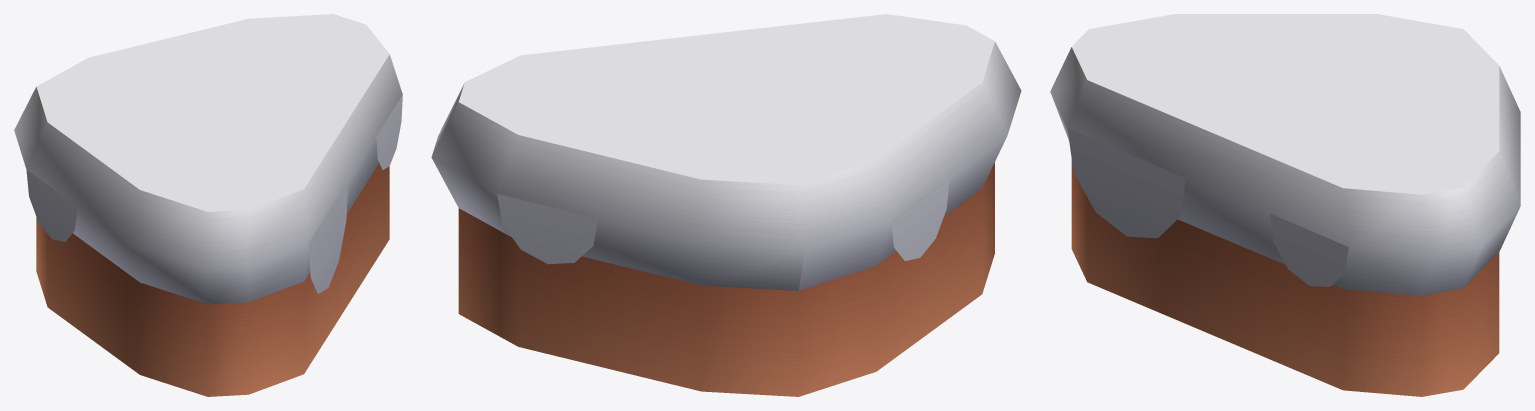
The model's file is block-snow-corner-overhang-low.glb.
The picture shows the model from 3 angles, left to right: view 1: azimuth 30°, elevation 25°; view 2: azimuth 150°, elevation 25°; view 3: azimuth 270°, elevation 25°; orthographic projection. The views are drawn at different scales.
Parts seen in each view (by area): view 1: block-snow-corner-overhang-low; view 2: block-snow-corner-overhang-low; view 3: block-snow-corner-overhang-low.
Part boxes in pixels (bbox=[...]): block-snow-corner-overhang-low: bbox=[14, 14, 402, 396]; block-snow-corner-overhang-low: bbox=[431, 14, 1021, 396]; block-snow-corner-overhang-low: bbox=[1050, 14, 1520, 396].
Bounding box in the file's own units: 1.05 × 0.5 × 1.05.
1 material, 1 textured.
